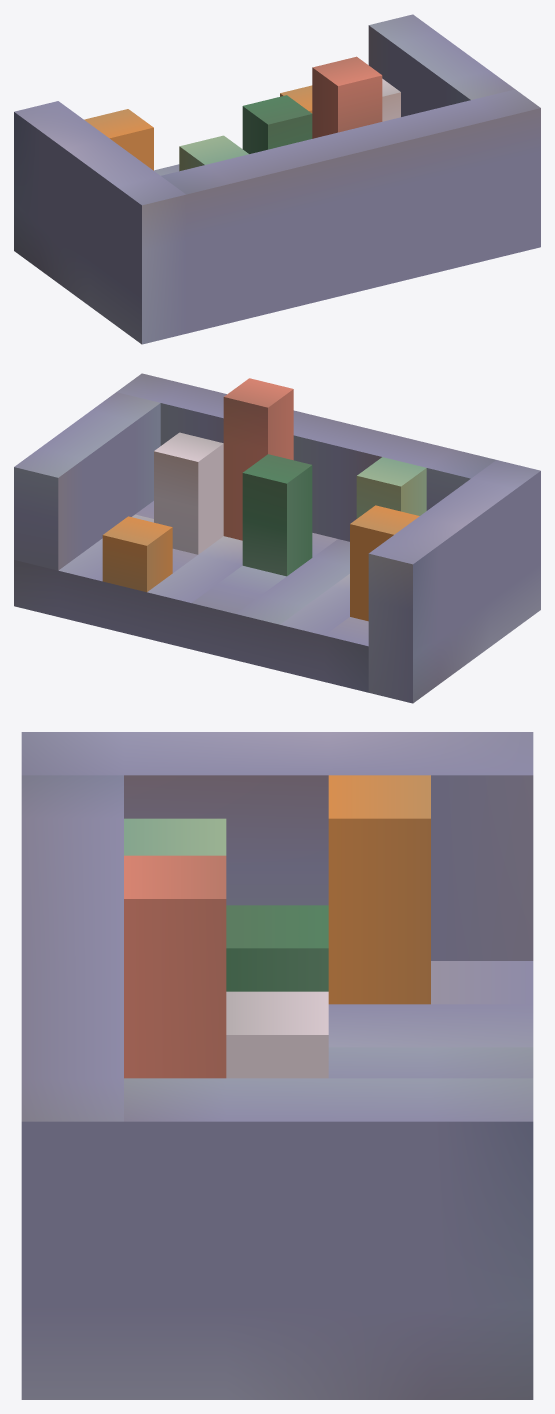
The model's file is ToyStackerPurple_00.fbx.
3 renders of one model, top to bottom at view 1: azimuth 30°, elevation 25°; view 2: azimuth 150°, elevation 25°; view 3: azimuth 270°, elevation 25°, orthographic. The views are drawn at different scales.
Visible parts, largest first — view 1: ToyStackerPurple_00; view 2: ToyStackerPurple_00; view 3: ToyStackerPurple_00.
Boxes of the visible parts, left/top/right/bottom form: ToyStackerPurple_00: left=14, top=14, right=540, bottom=344; ToyStackerPurple_00: left=14, top=373, right=540, bottom=703; ToyStackerPurple_00: left=21, top=732, right=533, bottom=1399.
Bounding box in the file's own units: 45 × 25 × 20.
Materials: 1 (1 with a texture image).
